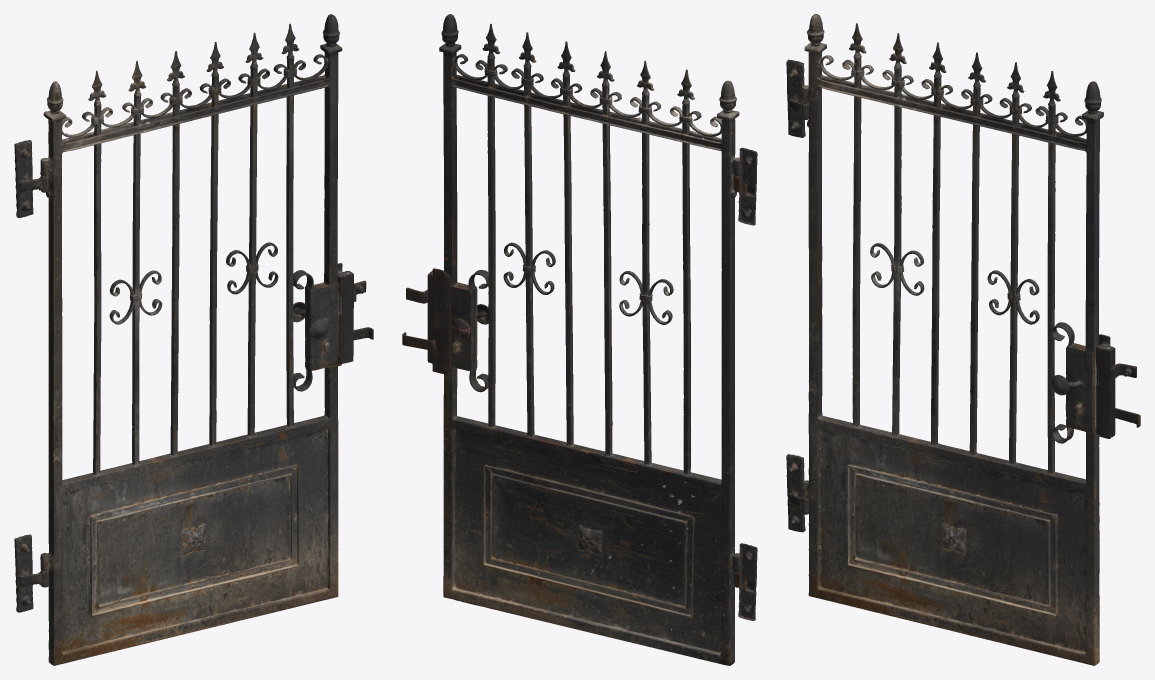
Rendered from building_door_1.fbx.
3 views of the same model, side by side, from view 1: azimuth 30°, elevation 25°; view 2: azimuth 150°, elevation 25°; view 3: azimuth 330°, elevation 25° (orthographic).
Visible parts, largest first — view 1: building_door_1; view 2: building_door_1; view 3: building_door_1.
Boxes of the visible parts, x1=… form: building_door_1: x1=14, y1=14, x2=373, y2=665; building_door_1: x1=402, y1=14, x2=757, y2=665; building_door_1: x1=786, y1=14, x2=1140, y2=665.
Bounding box in the file's own units: 33.79 × 53.07 × 4.28.
